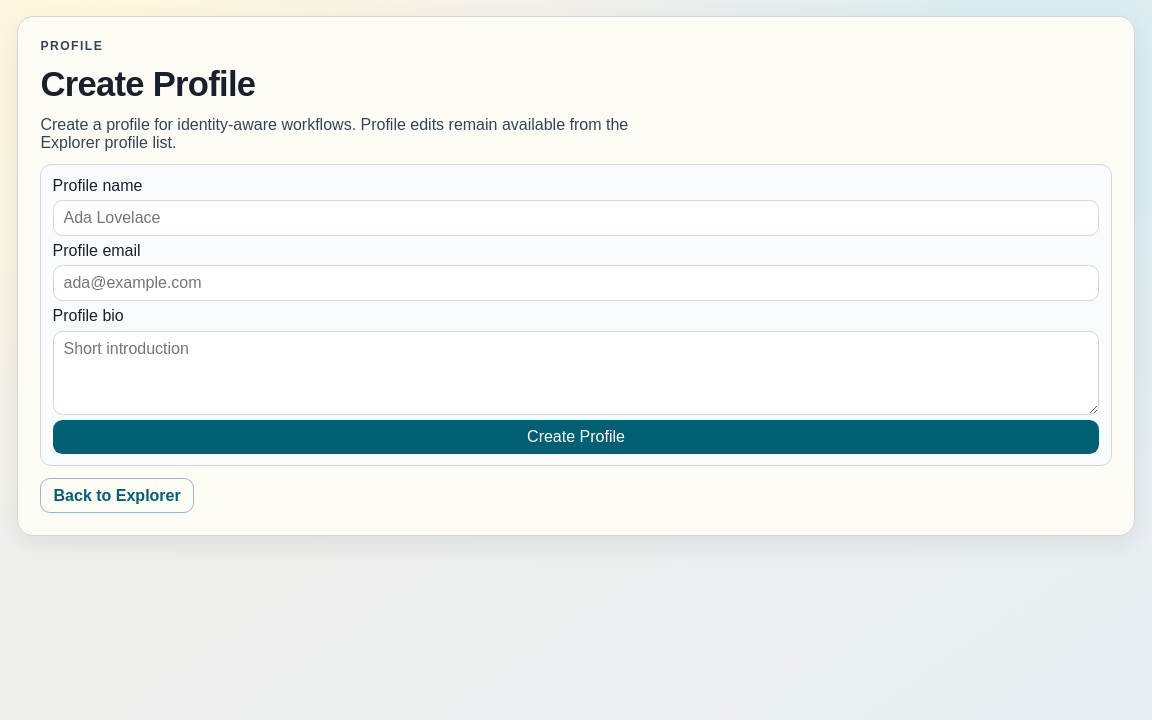
ProfilePage › validates required fields before submit
Click the button "Create Profile".
click(576, 437)  # box [53,420,1099,454]
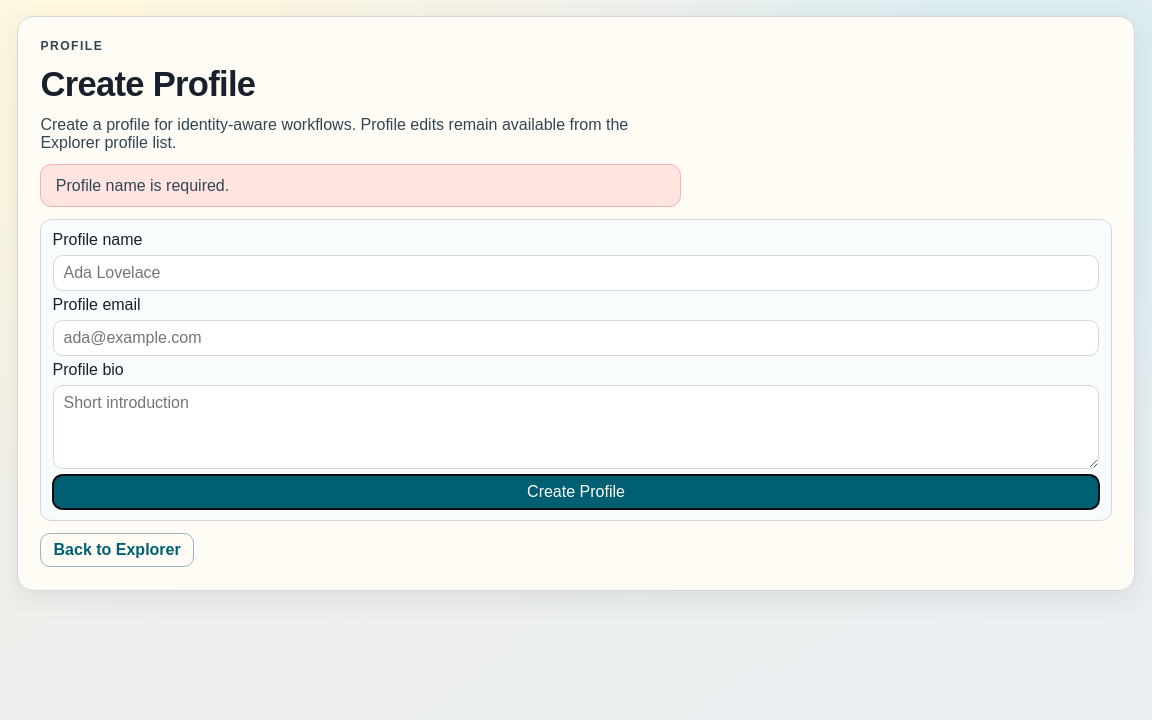
expect the text "Profile name is required." is shown: met, box [40,164,681,207]
Type "Ada" into the field labelled "Profile name".
click(576, 272); type("Ada")  # box [53,254,1099,290]
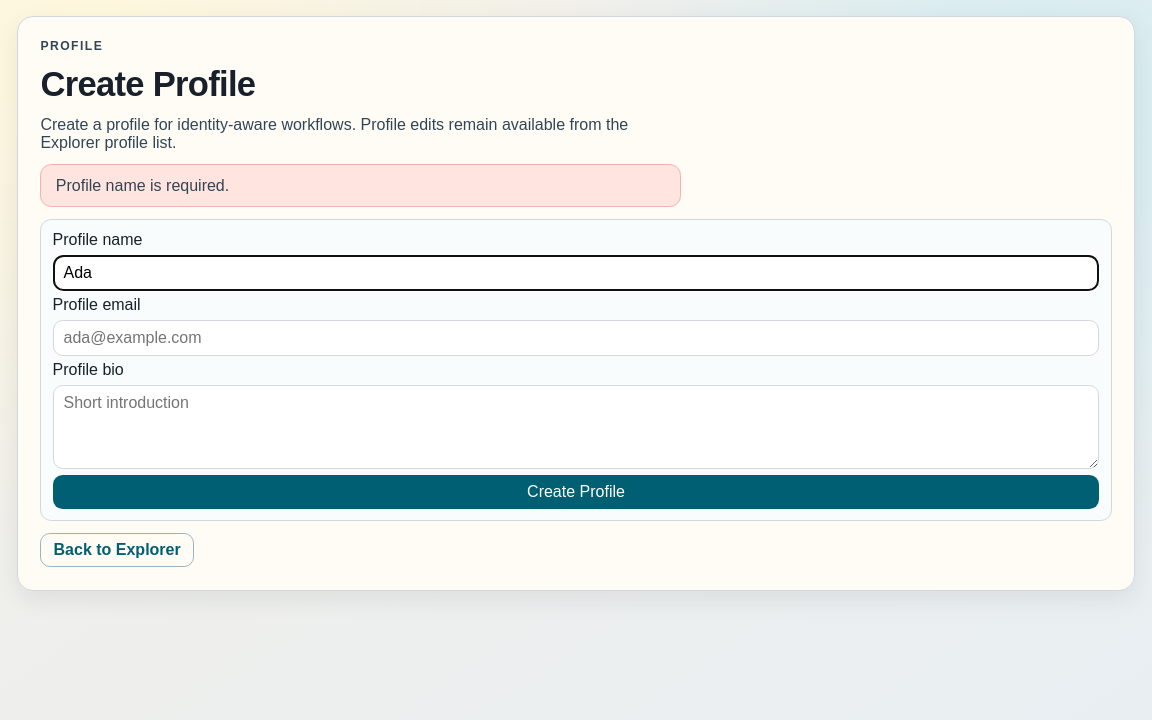
Click the button "Create Profile".
click(576, 492)  # box [53,474,1099,508]
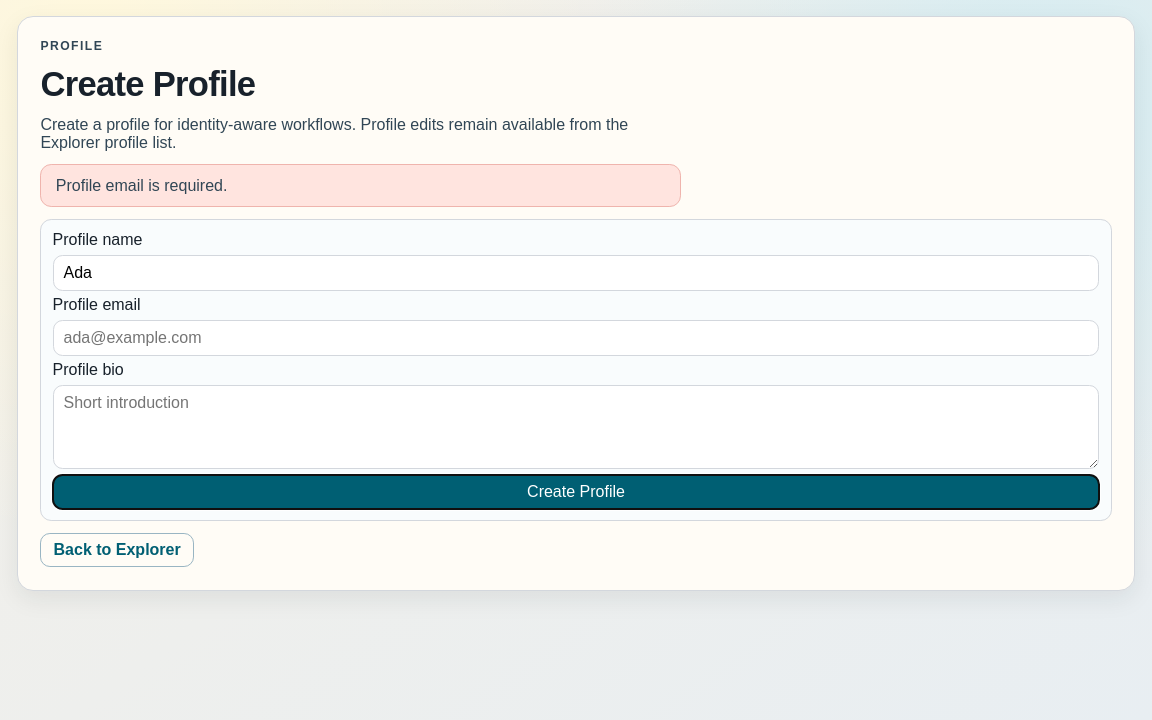
expect the text "Profile email is required." is shown: met, box [40,164,681,207]
